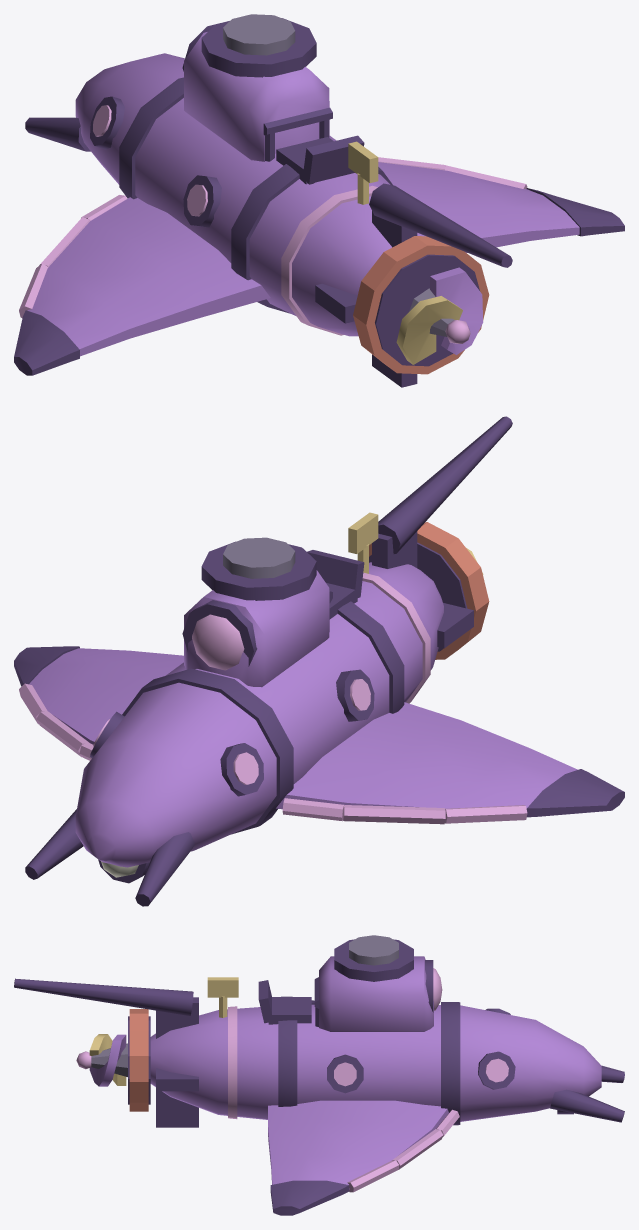
The model's file is TwilightRay.glb.
The picture shows the model from 3 angles, top to bottom: view 1: azimuth 30°, elevation 25°; view 2: azimuth 150°, elevation 25°; view 3: azimuth 270°, elevation 25°; orthographic projection. The views are drawn at different scales.
Visible parts, largest first — view 1: Hull, Hull_Glow, Prop, Seat; view 2: Hull, Hull_Glow, Seat; view 3: Hull, Hull_Glow, Prop, Seat.
Part boxes in pixels (bbox=[...]): Hull: bbox=[14, 14, 624, 387]; Hull_Glow: bbox=[19, 105, 527, 335]; Prop: bbox=[396, 267, 483, 364]; Seat: bbox=[263, 107, 364, 184]; Hull: bbox=[14, 416, 624, 906]; Hull_Glow: bbox=[19, 572, 527, 824]; Seat: bbox=[307, 550, 364, 619]; Hull: bbox=[14, 935, 624, 1215]; Hull_Glow: bbox=[228, 968, 508, 1192]; Prop: bbox=[89, 1034, 127, 1086]; Seat: bbox=[258, 977, 319, 1026].
Size of the model in its own units: 41.4 by 16.45 by 50.99.
